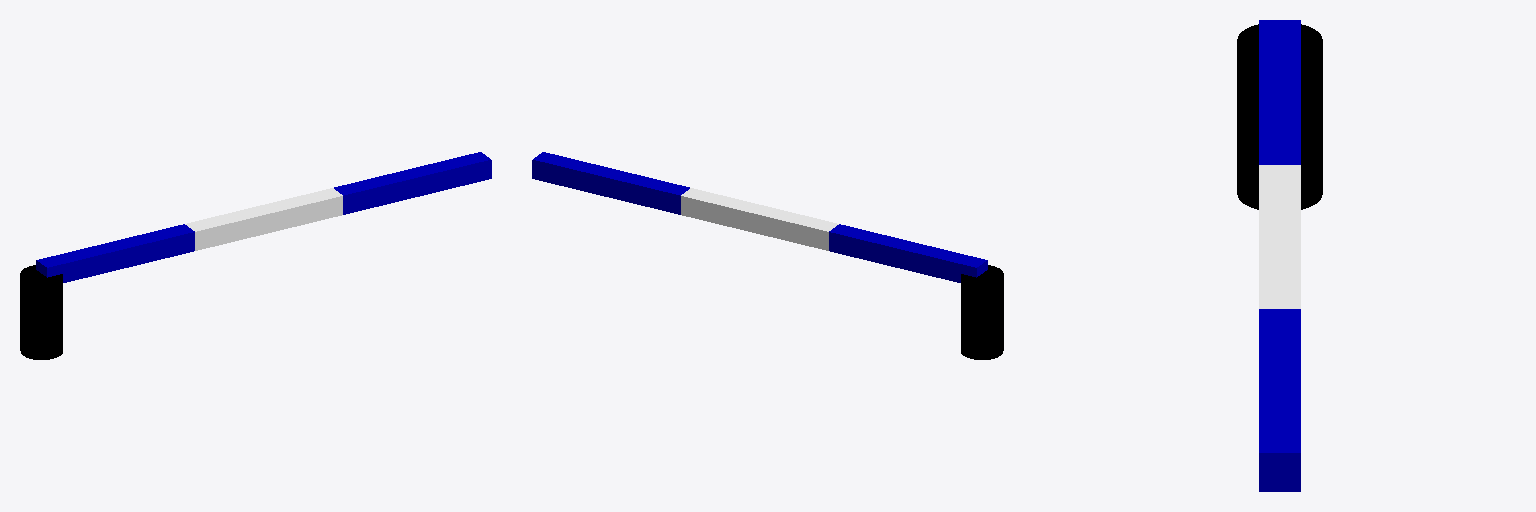
The robot description file, URDF, robot "ModularBot":
<?xml version="1.0" ?>
<!-- =================================================================================== -->
<!-- |    This document was autogenerated by xacro from ModularBot_Generated.urdf.xacro | -->
<!-- |    EDITING THIS FILE BY HAND IS NOT RECOMMENDED                                 | -->
<!-- =================================================================================== -->
<robot name="ModularBot" xmlns:xacro="http://ros.org/wiki/xacro">
  <material name="blue">
    <color rgba="0 0 0.8 1"/>
  </material>
  <material name="black">
    <color rgba="0 0 0 1"/>
  </material>
  <material name="white">
    <color rgba="1 1 1 1"/>
  </material>
  <link name="base_link"/>
  <link name="link_0">
    <visual>
      <origin rpy="0 0 0" xyz="0 0 0.2"/>
      <geometry>
        <cylinder length="0.4" radius="0.1"/>
      </geometry>
      <material name="black"/>
    </visual>
    <collision>
      <geometry>
        <cylinder length="0.4" radius="0.1"/>
      </geometry>
    </collision>
    <inertial>
      <mass value="10"/>
      <inertia ixx="1.0" ixy="0.0" ixz="0.0" iyy="1.0" iyz="0.0" izz="1.0"/>
    </inertial>
  </link>
  <joint name="fixed" type="fixed">
    <parent link="base_link"/>
    <child link="link_0"/>
  </joint>
  <link name="link_1">
    <visual>
      <origin rpy="0 0 0" xyz="0.4 0 0"/>
      <geometry>
        <box size="0.8 0.1 0.1"/>
      </geometry>
      <material name="blue"/>
    </visual>
    <collision>
      <origin rpy="0 0 0" xyz="0.4 0 0"/>
      <geometry>
        <box size="0.8 0.1 0.1"/>
      </geometry>
    </collision>
    <inertial>
      <mass value="1"/>
      <inertia ixx="1.0" ixy="0.0" ixz="0.0" iyy="1.0" iyz="0.0" izz="1.0"/>
    </inertial>
  </link>
  <joint name="joint_0_1" type="continuous">
    <axis rpy="0 0 0" xyz="0 0 1"/>
    <parent link="link_0"/>
    <child link="link_1"/>
    <origin rpy="0 0 0" xyz="0 0 0.4"/>
  </joint>
  <link name="link_2">
    <visual>
      <origin rpy="0 0 0" xyz="0.4 0 0"/>
      <geometry>
        <box size="0.8 0.1 0.1"/>
      </geometry>
      <material name="white"/>
    </visual>
    <collision>
      <origin rpy="0 0 0" xyz="0.4 0 0"/>
      <geometry>
        <box size="0.8 0.1 0.1"/>
      </geometry>
    </collision>
    <inertial>
      <mass value="1"/>
      <inertia ixx="1.0" ixy="0.0" ixz="0.0" iyy="1.0" iyz="0.0" izz="1.0"/>
    </inertial>
  </link>
  <joint name="joint_1_2" type="continuous">
    <axis rpy="0 0 0" xyz="0 0 1"/>
    <parent link="link_1"/>
    <child link="link_2"/>
    <origin rpy="-1.57075 0 0" xyz="0.8 0 0"/>
  </joint>
  <link name="link_3">
    <visual>
      <origin rpy="0 0 0" xyz="0.4 0 0"/>
      <geometry>
        <box size="0.8 0.1 0.1"/>
      </geometry>
      <material name="blue"/>
    </visual>
    <collision>
      <origin rpy="0 0 0" xyz="0.4 0 0"/>
      <geometry>
        <box size="0.8 0.1 0.1"/>
      </geometry>
    </collision>
    <inertial>
      <mass value="1"/>
      <inertia ixx="1.0" ixy="0.0" ixz="0.0" iyy="1.0" iyz="0.0" izz="1.0"/>
    </inertial>
  </link>
  <joint name="joint_2_3" type="continuous">
    <axis rpy="0 0 0" xyz="0 0 1"/>
    <parent link="link_2"/>
    <child link="link_3"/>
    <origin rpy="1.57075 0 0" xyz="0.8 0 0"/>
  </joint>
</robot>

--- Facts derived from the render (not from the file) ---
3 views of the same robot in one strip: view 1: azimuth 30°, elevation 25°; view 2: azimuth 150°, elevation 25°; view 3: azimuth 270°, elevation 25° (orthographic).
Model ModularBot with 5 links and 4 joints (3 continuous, 1 fixed), rooted at base_link, posed every joint at zero.
Links seen in each view (by area): view 1: link_3, link_2, link_1, link_0; view 2: link_3, link_2, link_1, link_0; view 3: link_0, link_3, link_1, link_2.
Link boxes in pixels (x1,y1,x2,y2): link_3: [334, 152, 491, 214]; link_2: [185, 188, 342, 250]; link_1: [36, 224, 194, 282]; link_0: [20, 265, 62, 359]; link_3: [532, 152, 689, 214]; link_2: [681, 188, 838, 250]; link_1: [829, 224, 987, 282]; link_0: [961, 265, 1003, 359]; link_0: [1237, 24, 1322, 209]; link_3: [1259, 309, 1300, 491]; link_1: [1259, 20, 1300, 164]; link_2: [1259, 165, 1300, 308].
Size in the robot's own frame: 2.5 by 0.2 by 0.45 metres.
Geometry: primitives only (box / cylinder / sphere), no mesh files.